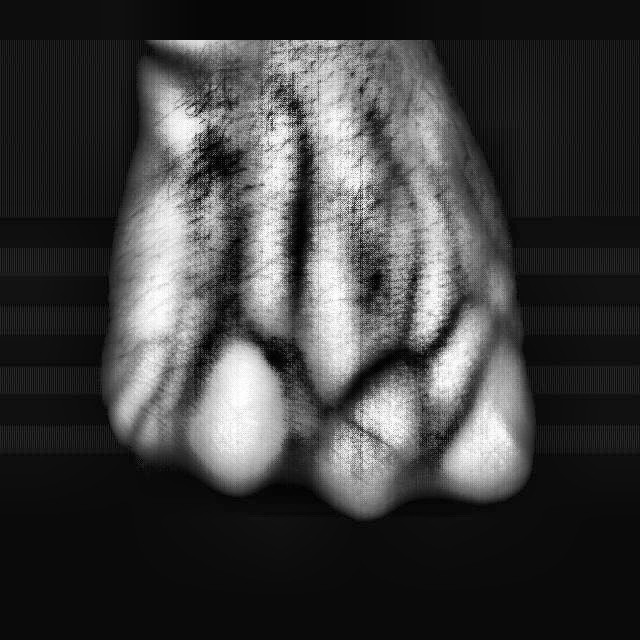Vein: (286, 124, 314, 320)
